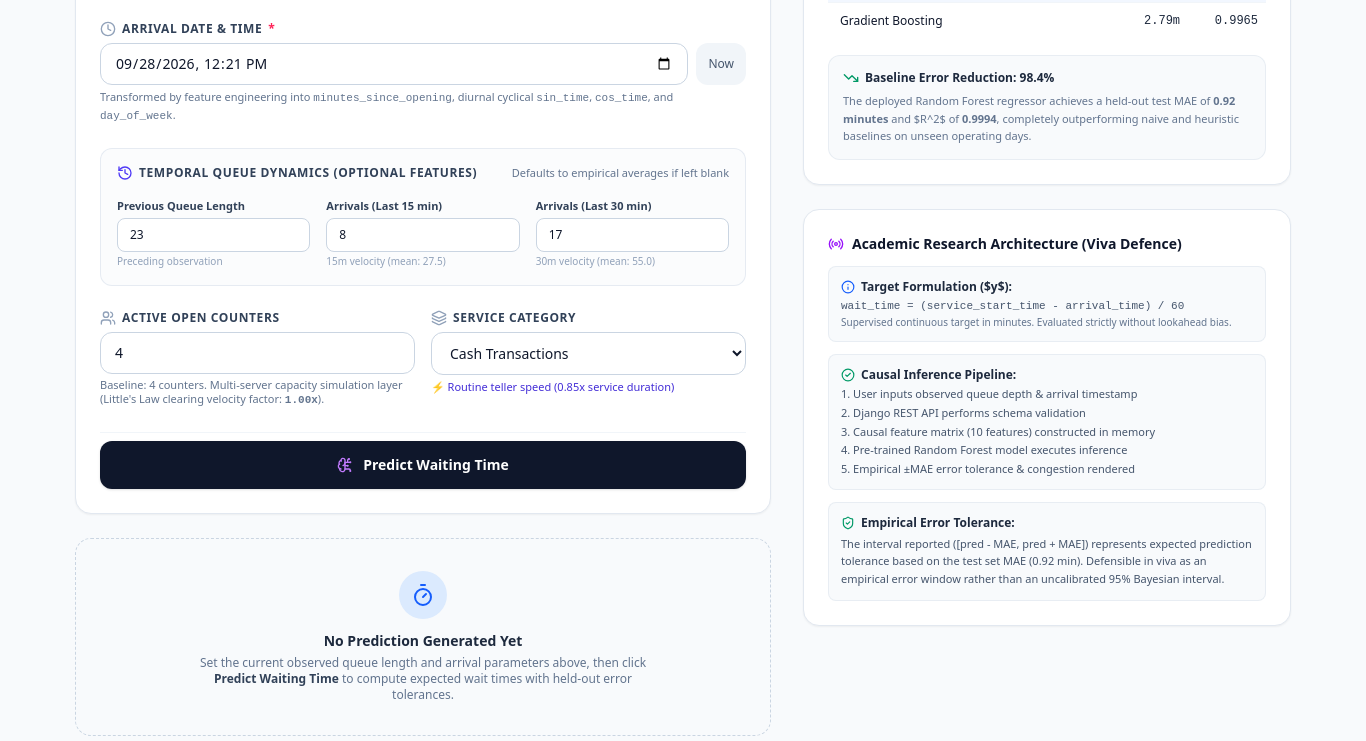
Prediction Page Real-Time Integration & User Flow › 6. renders backend congestion status and badge color accurately
The width and height of the screenshot is (1366, 741).
(page scrolled)
Click the button "Predict Waiting Time" at x=423, y=464, box [100,440,746,488]
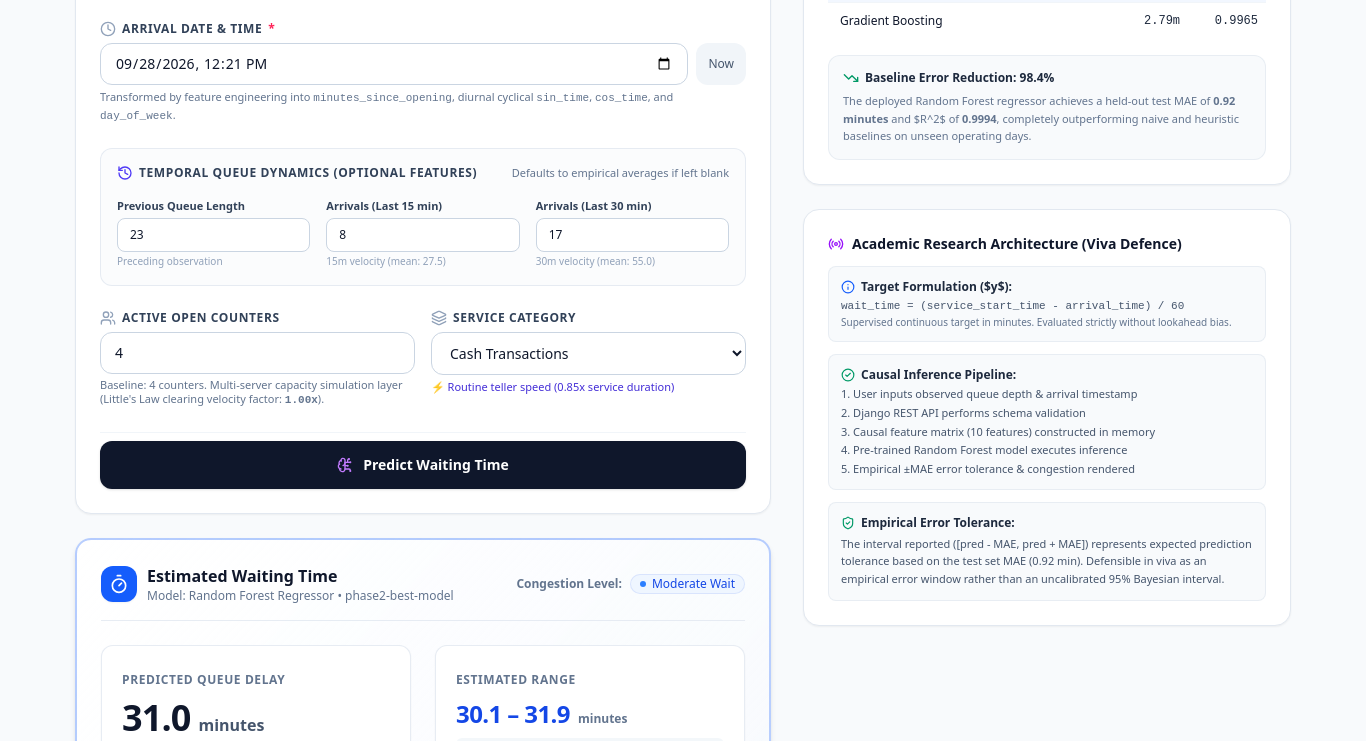
Now the text "Moderate Wait" is shown, box [630,574,745,594]
